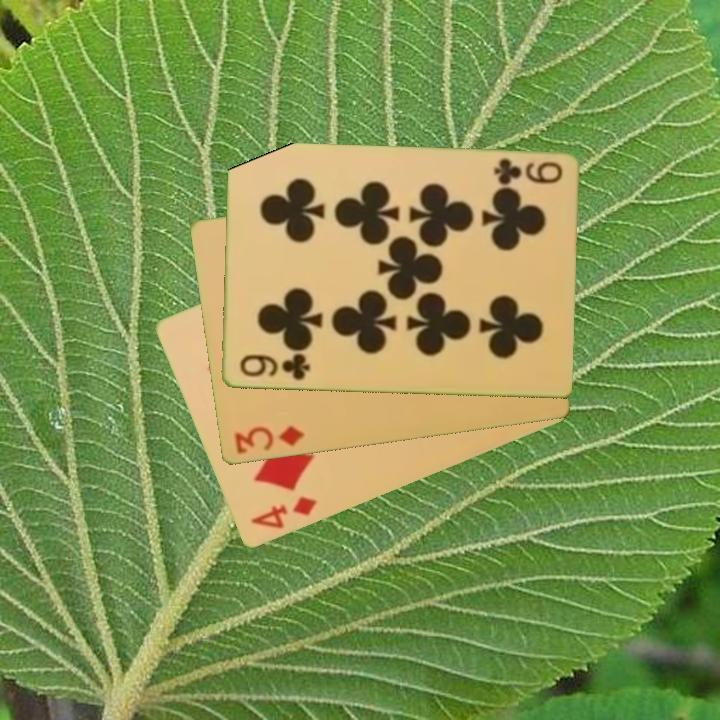3d: (231, 423, 307, 458)
4d: (247, 493, 320, 533)
9c: (489, 155, 564, 188), (236, 351, 313, 383)
